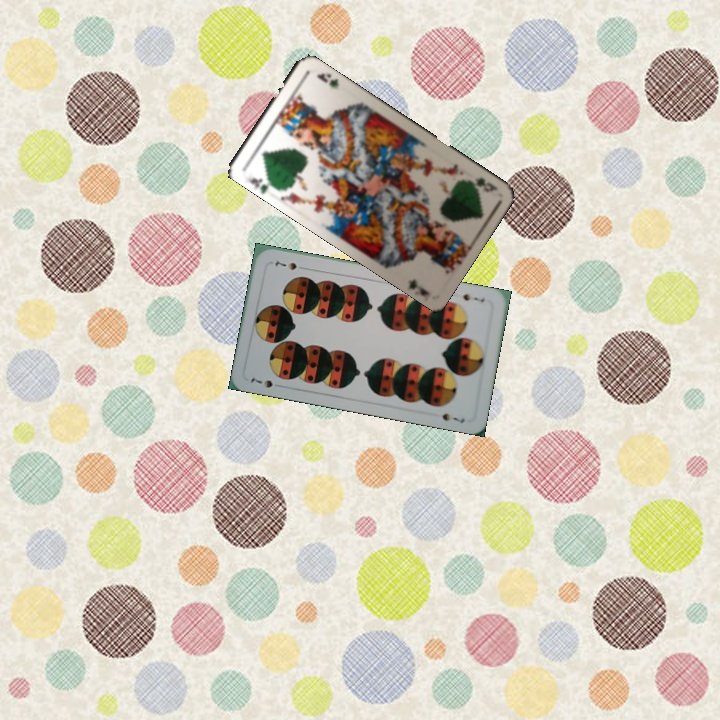GK: (462, 173, 500, 195), (244, 174, 277, 195)
S7: (247, 373, 285, 390), (459, 290, 487, 305)
